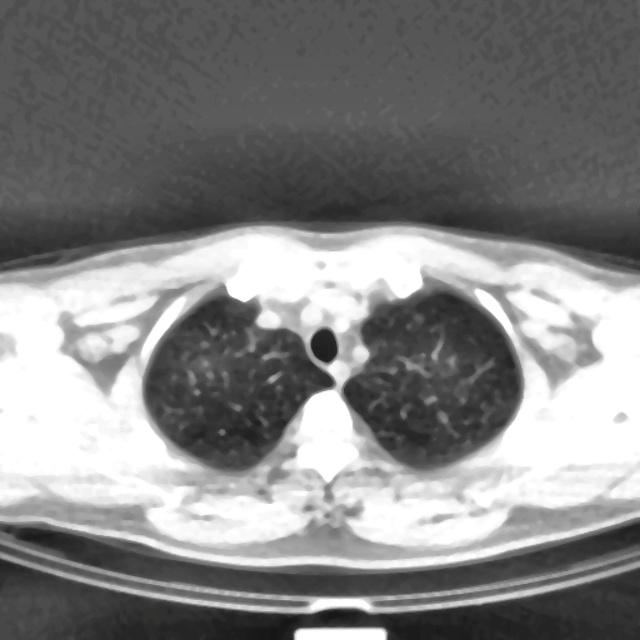covid: (140, 291, 337, 473), (341, 285, 523, 471)
